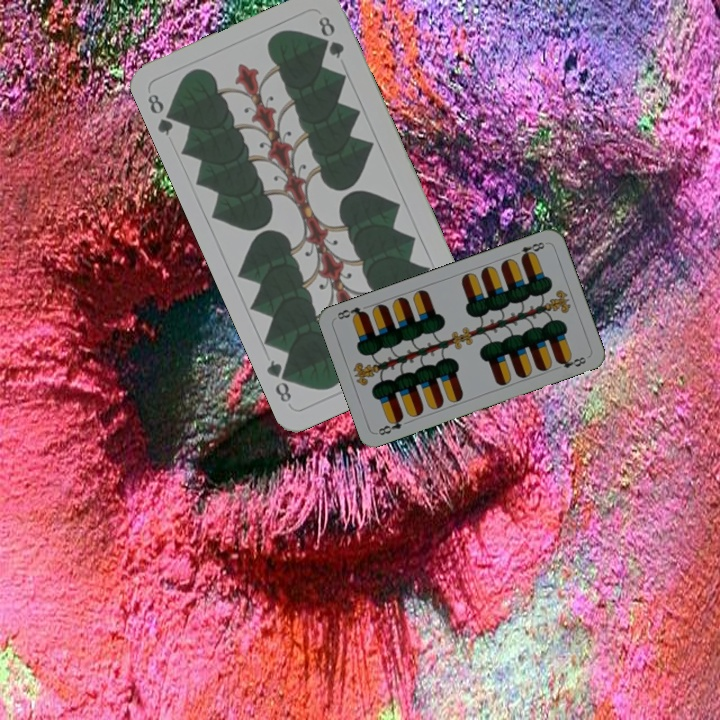E8: (510, 238, 549, 262), (374, 412, 406, 438)
G8: (143, 89, 181, 139)
